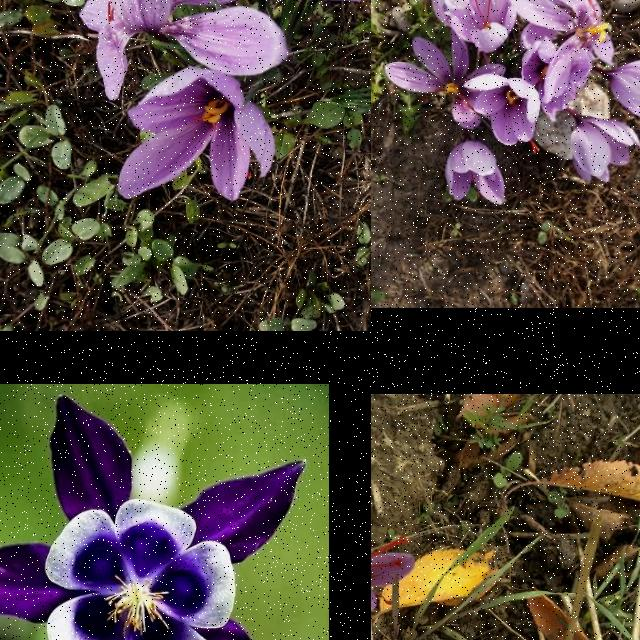flower: (118, 66, 276, 202), (80, 0, 290, 101), (386, 27, 506, 131), (509, 0, 614, 104), (463, 75, 542, 155), (569, 114, 640, 186), (444, 138, 510, 205), (371, 521, 415, 611), (443, 0, 516, 53), (607, 58, 640, 122)
overlap: (386, 0, 616, 156)
